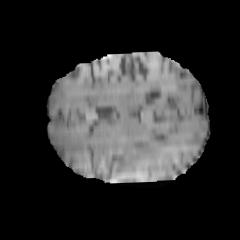glioma: (52, 128, 175, 183)
